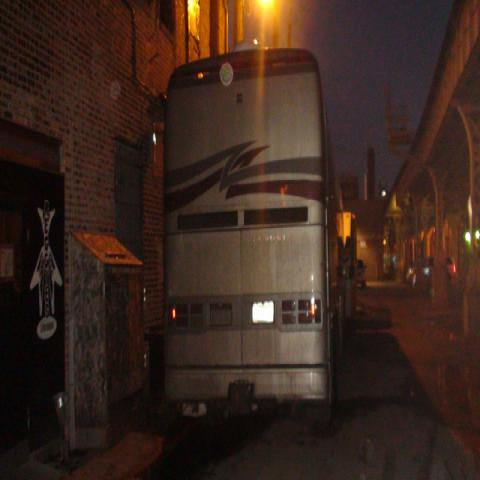bus: (166, 49, 344, 414)
